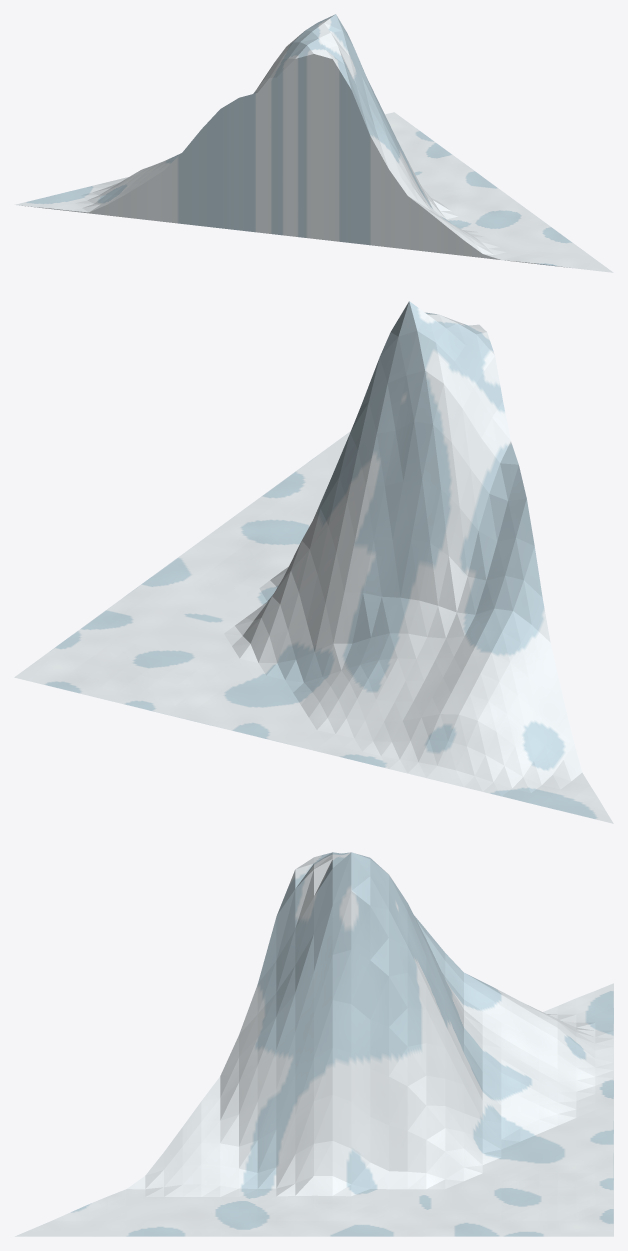
File: Snow_Mountains_11_SE.obj
3 views of the same model, one above another, from view 1: azimuth 30°, elevation 25°; view 2: azimuth 150°, elevation 25°; view 3: azimuth 270°, elevation 25° (orthographic). The views are drawn at different scales.
Size of the model in its own units: 10 by 5.18 by 10.
1 material, 1 textured.
